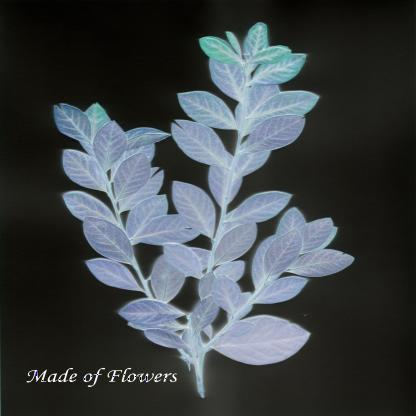blueberry leaf: (214, 313, 327, 376), (81, 214, 147, 266), (76, 259, 149, 293), (112, 145, 150, 209), (48, 100, 96, 147), (95, 123, 130, 180)
